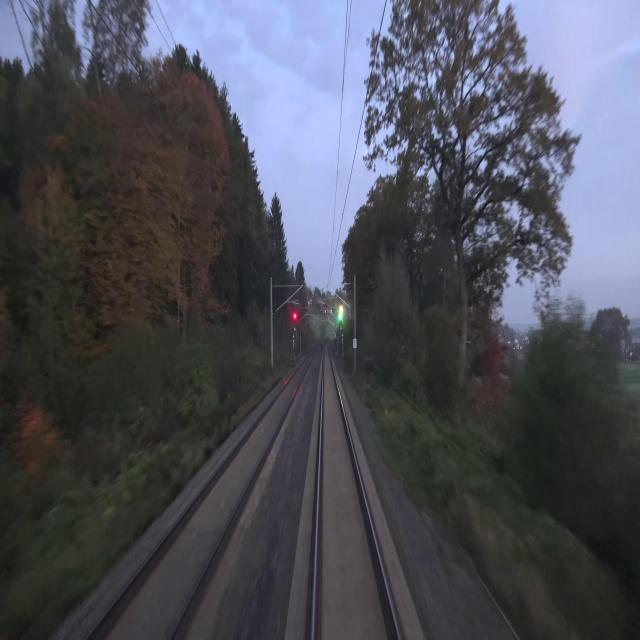rail-track: (89, 351, 313, 639), (314, 346, 397, 639)
